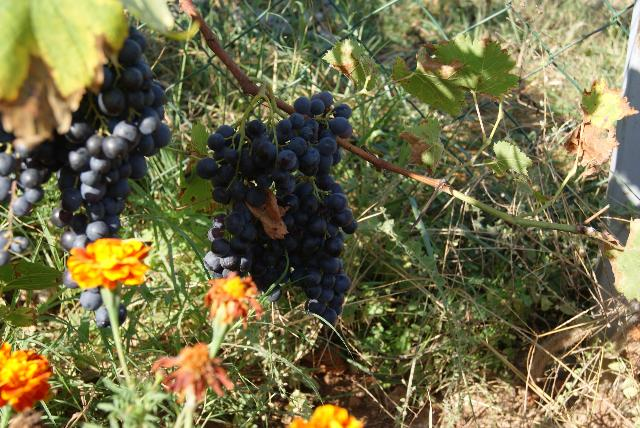grapes: (0, 27, 171, 251), (195, 91, 358, 321)
